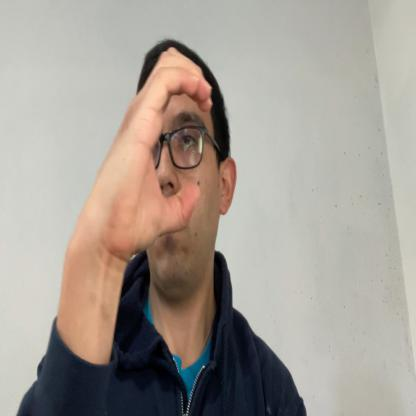C: (106, 47, 212, 253)
